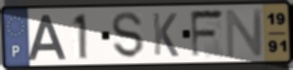1: (70, 12, 89, 61)
A: (26, 13, 68, 62)
F: (189, 8, 227, 61)
K: (150, 11, 180, 59)
N: (224, 7, 265, 60)
S: (110, 11, 146, 61)
